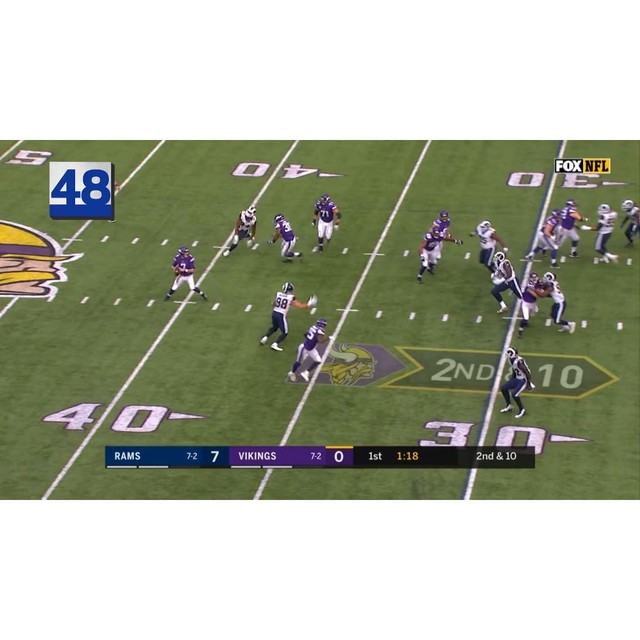american-football-player: (257, 281, 312, 351), (286, 316, 330, 381), (498, 348, 534, 418), (165, 246, 208, 301), (490, 251, 525, 314), (525, 210, 563, 268), (470, 219, 507, 277), (540, 272, 574, 334), (588, 202, 620, 265), (556, 198, 589, 259), (223, 206, 258, 257), (416, 224, 446, 283), (517, 271, 544, 335), (312, 193, 340, 253), (271, 213, 302, 263), (620, 198, 640, 249)
